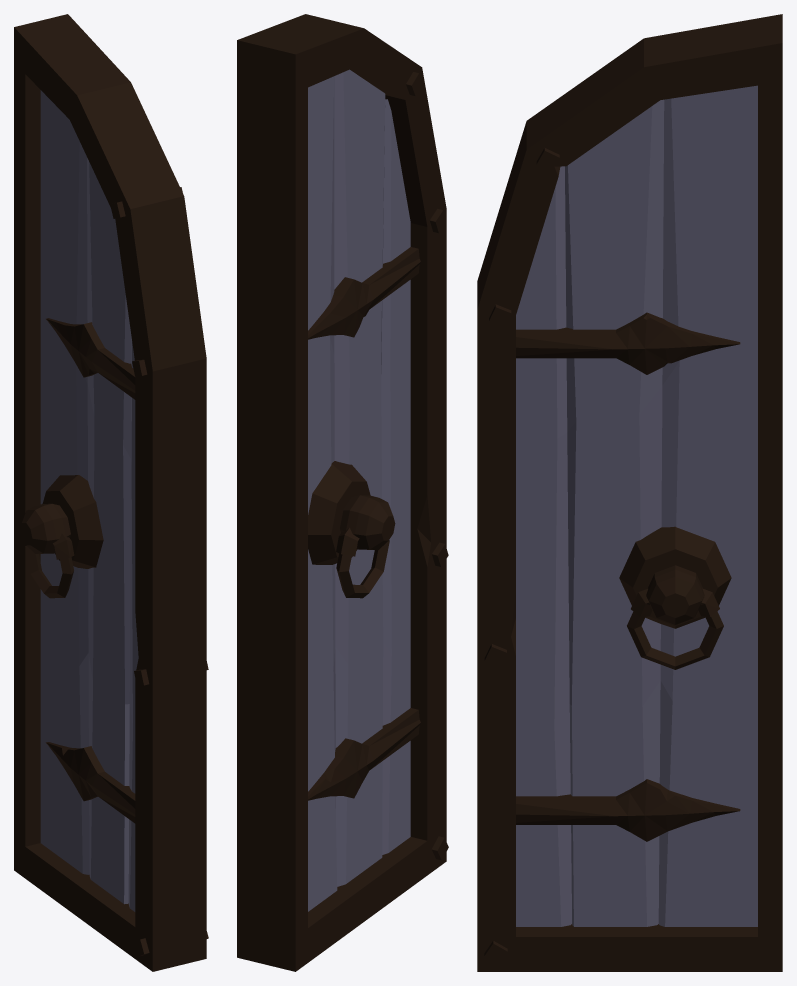
File: SFFA_Door_R.fbx
3 views of the same model, side by side, from view 1: azimuth 30°, elevation 25°; view 2: azimuth 150°, elevation 25°; view 3: azimuth 270°, elevation 25° (orthographic). The views are drawn at different scales.
Visible parts, largest first — view 1: SFFA_Door_R; view 2: SFFA_Door_R; view 3: SFFA_Door_R.
Part boxes in pixels (left/top/right/bottom): SFFA_Door_R: left=14, top=14, right=208, bottom=971; SFFA_Door_R: left=237, top=14, right=448, bottom=971; SFFA_Door_R: left=477, top=14, right=782, bottom=971.
Bounding box in the file's own units: 35.52 × 231 × 68.82.
